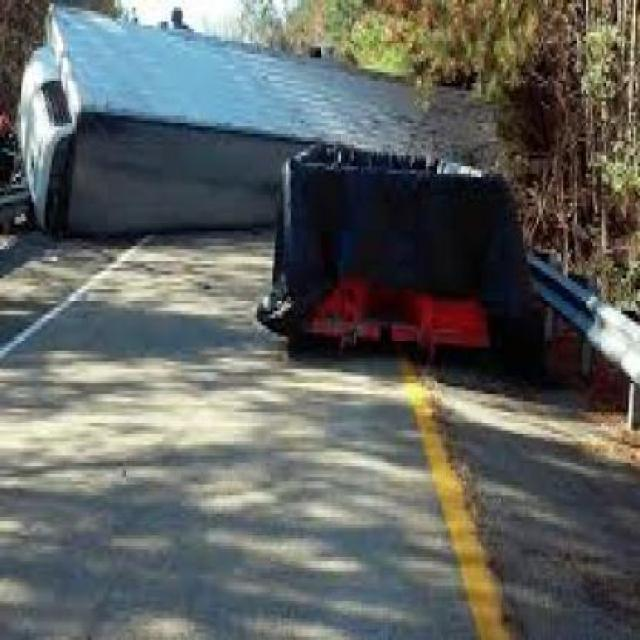accident: (10, 8, 522, 190)
